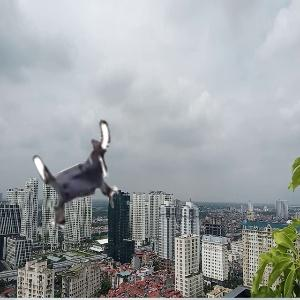drone: (28, 124, 134, 230)
